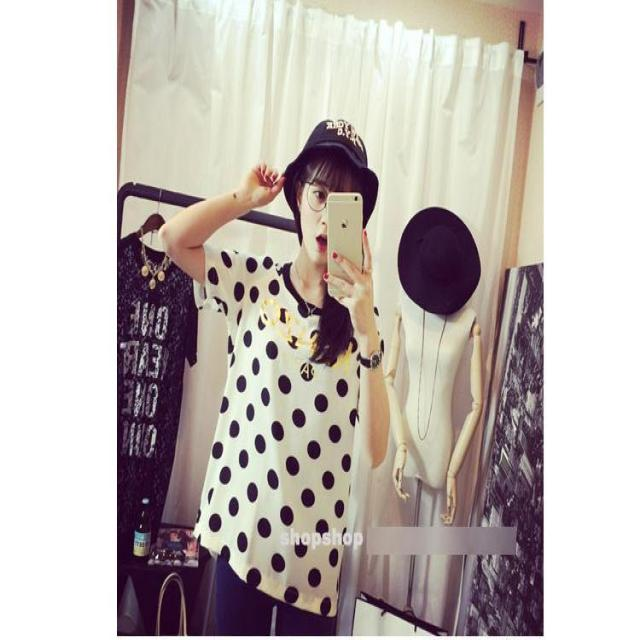short sleeve top: (194, 243, 387, 615), (116, 234, 199, 548)
trousers: (213, 482, 347, 635)
